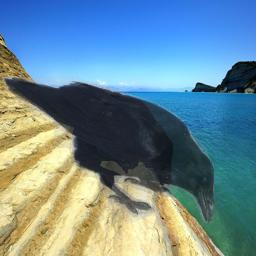Crow: (2, 77, 214, 223)
